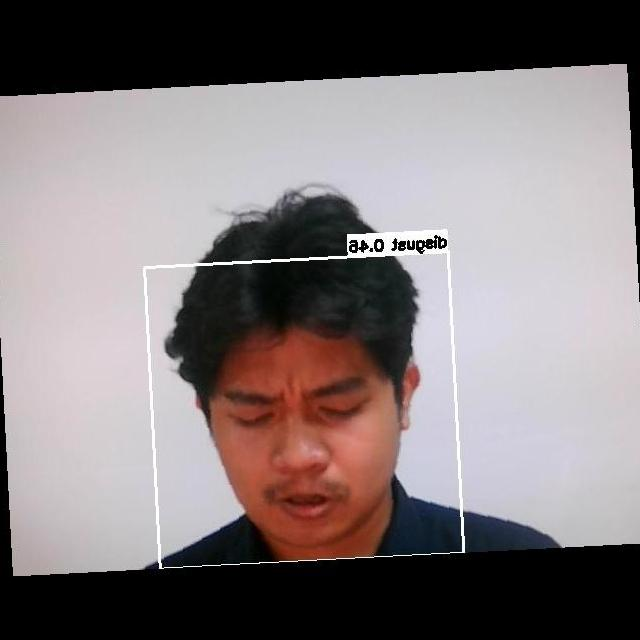Angry: (214, 357, 405, 529)
